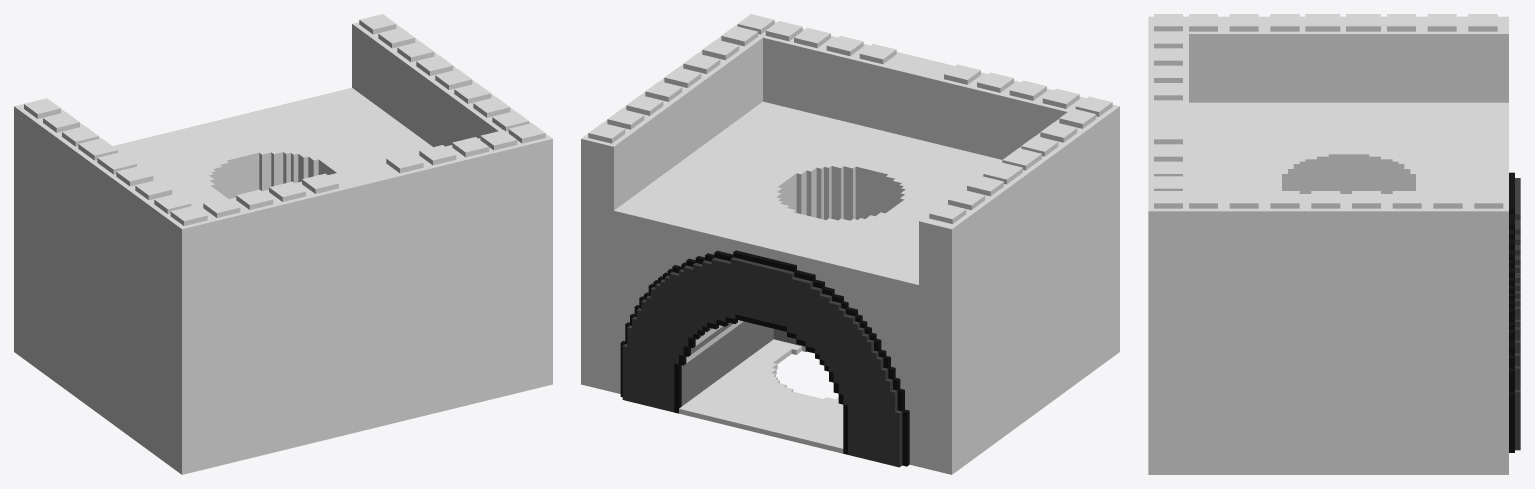
Rendered from Wheel_shop.obj.
3 renders of one model, left to right at view 1: azimuth 30°, elevation 25°; view 2: azimuth 150°, elevation 25°; view 3: azimuth 270°, elevation 25°, orthographic. The views are drawn at different scales.
Bounding box in the file's own units: 7.9 × 5.1 × 6.4.
Materials: 1 (1 with a texture image).
